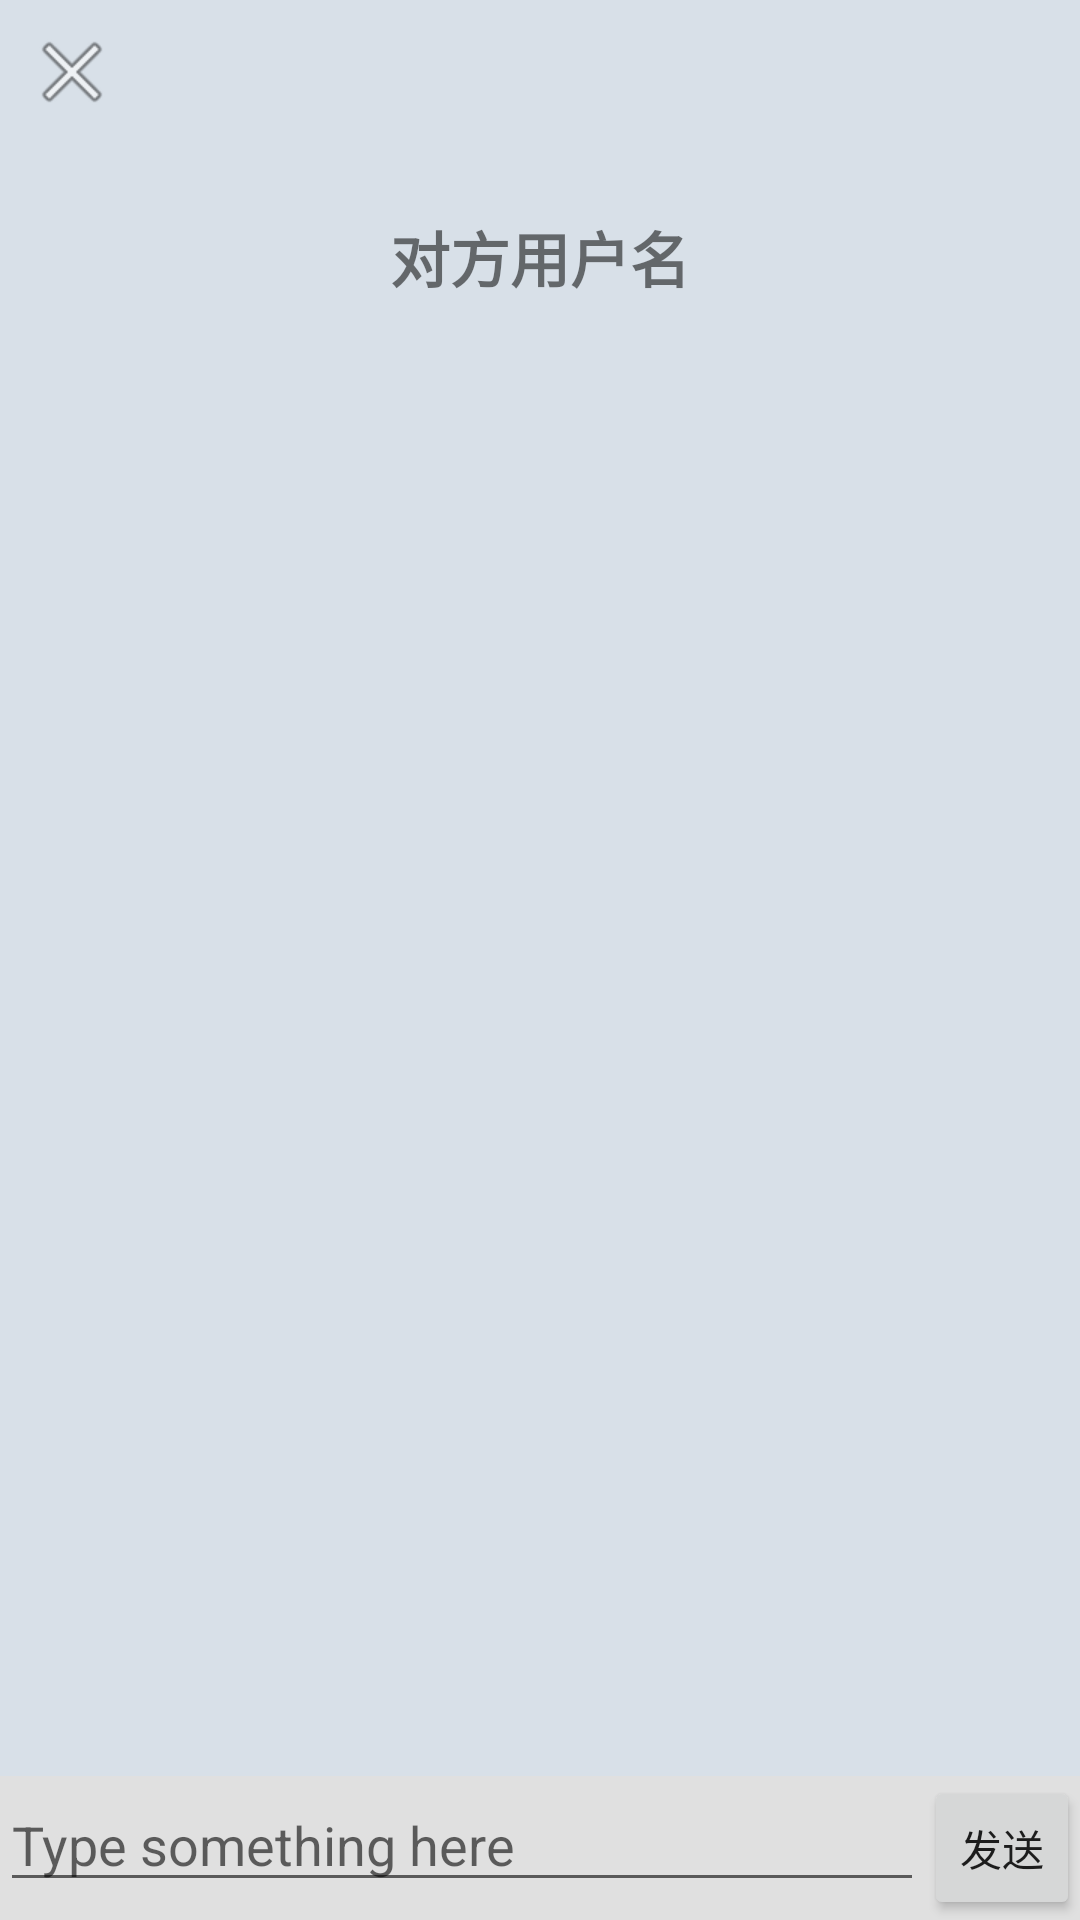

Icon click points for this 1080*1920 phone screenshot, format [x,y]:
close clear cancel: [72,72]
